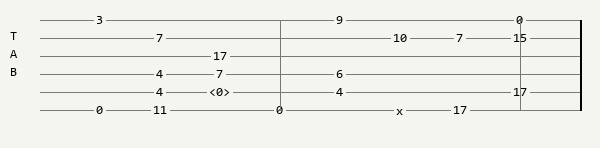0: (96, 104, 107, 116), (276, 104, 287, 116), (516, 14, 527, 26)
10: (393, 32, 411, 44)
11: (153, 104, 171, 116)
15: (513, 32, 531, 44)
17: (213, 50, 231, 62), (453, 104, 471, 116), (513, 86, 531, 98)
3: (96, 14, 107, 26)
4: (156, 68, 167, 80), (156, 86, 167, 98), (336, 86, 347, 98)
6: (336, 68, 347, 80)
7: (156, 32, 167, 44), (216, 68, 227, 80), (456, 32, 467, 44)
9: (336, 14, 347, 26)
harmonic: (209, 86, 234, 98)
x: (396, 105, 407, 115)
